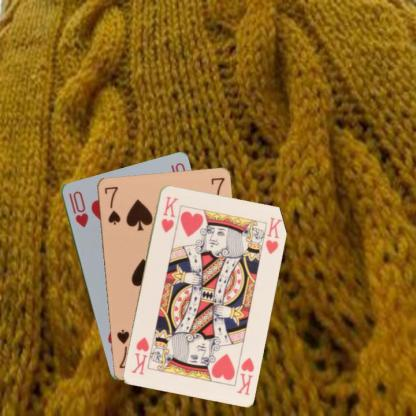10h: (66, 189, 89, 229)
7s: (102, 183, 121, 226)
Kh: (233, 354, 256, 396), (158, 194, 180, 234)
